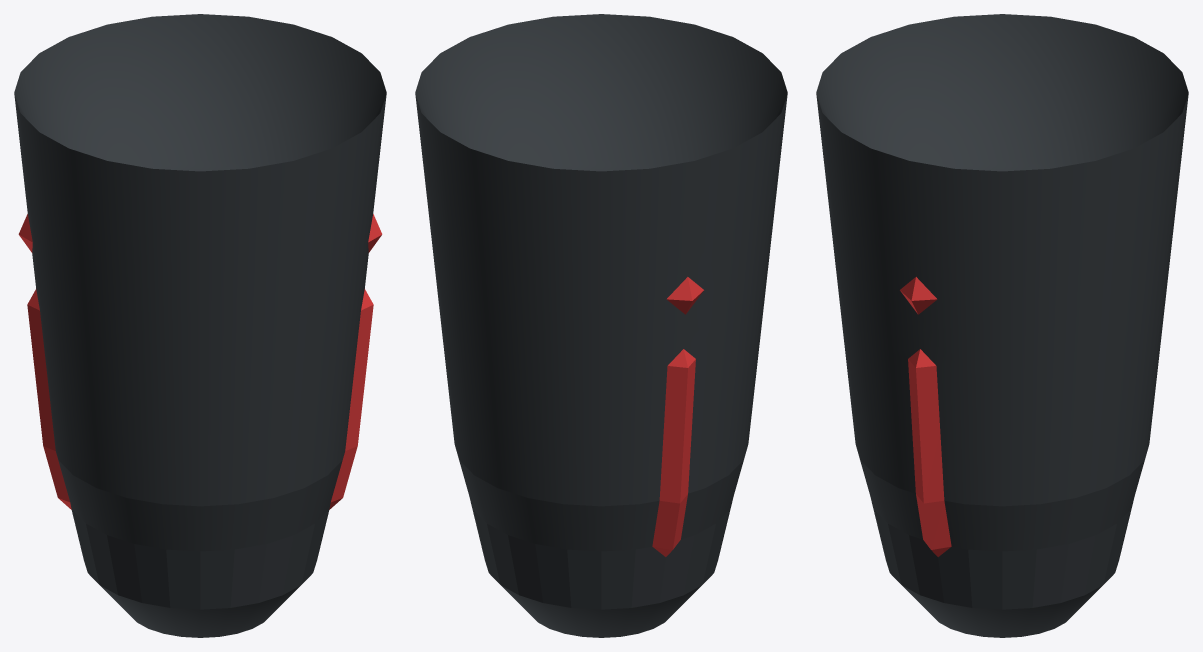
Rendered from Space Bucket 1.fbx.
3 views of the same model, side by side, from view 1: azimuth 30°, elevation 25°; view 2: azimuth 150°, elevation 25°; view 3: azimuth 270°, elevation 25° (orthographic).
Parts seen in each view (by area): view 1: Space Bucket 1; view 2: Space Bucket 1; view 3: Space Bucket 1.
Boxes of the visible parts, box(x1,y1,x2,y2) form: Space Bucket 1: box(14, 14, 386, 637); Space Bucket 1: box(415, 14, 787, 637); Space Bucket 1: box(816, 14, 1188, 637).
Bounding box in the file's own units: 23.87 × 37.72 × 23.87.
Materials: 2 (2 with a texture image).
